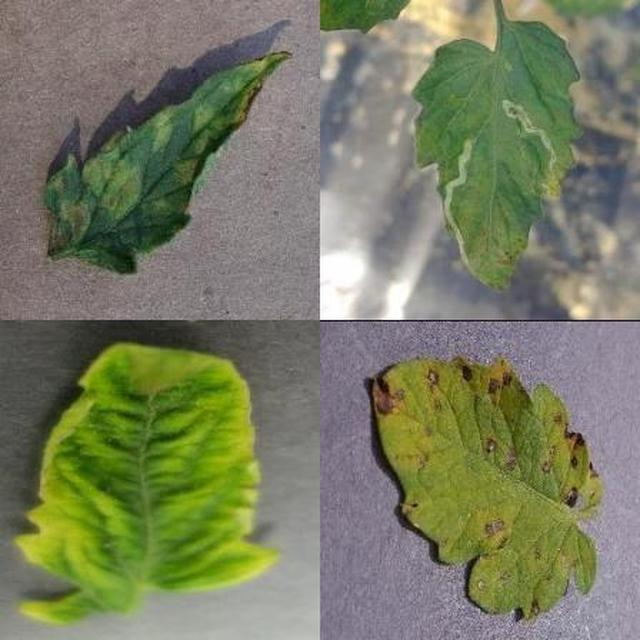Leaf Mold: (210, 221, 640, 640)
